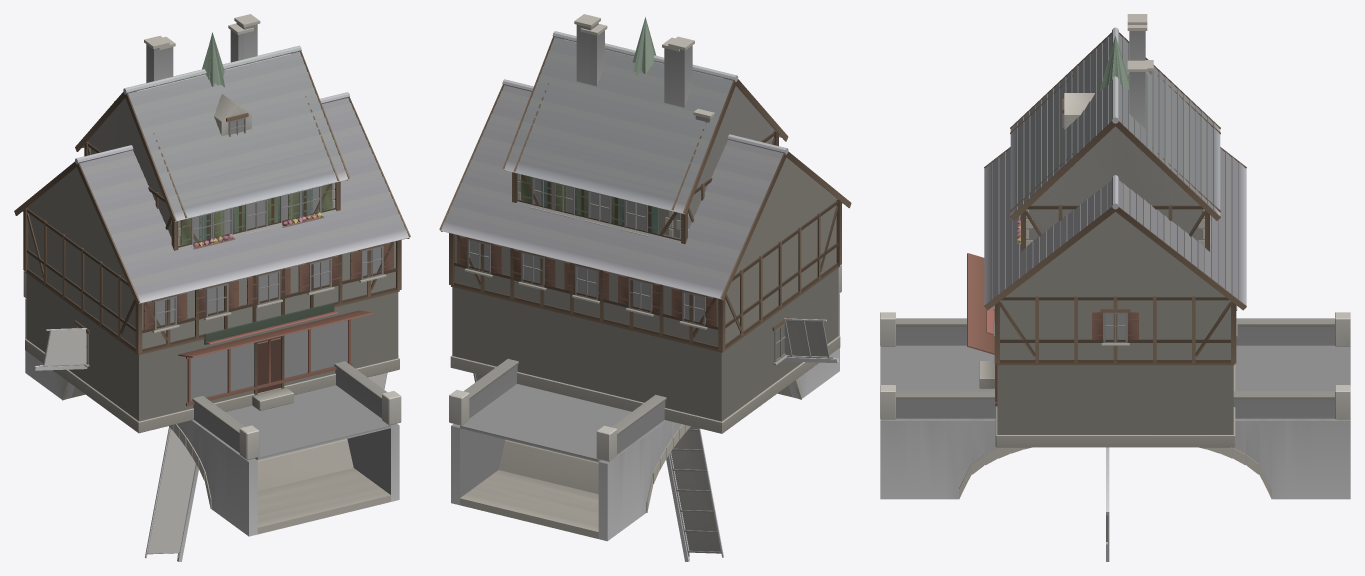
Rendered from skirmish_env.glb.
3 renders of one model, left to right at view 1: azimuth 30°, elevation 25°; view 2: azimuth 150°, elevation 25°; view 3: azimuth 270°, elevation 25°, orthographic. The views are drawn at different scales.
Parts seen in each view (by area): view 1: f_tavern_LOD0, p_bridge_LOD0, f_house_tall_v1_LOD0, f_house_tall_v0_LOD0, p_windmill_sails_LOD0, f_townhouse_v1_LOD0, f_townhouse_v0_LOD0, t_spruce_v1_LOD0; view 2: f_tavern_LOD0, p_bridge_LOD0, f_house_tall_v1_LOD0, f_house_tall_v0_LOD0, p_windmill_sails_LOD0, f_townhouse_v0_LOD0, f_townhouse_v1_LOD0, t_spruce_v0_LOD0; view 3: f_tavern_LOD0, p_bridge_LOD0, f_house_tall_v1_LOD0, f_house_tall_v0_LOD0, f_townhouse_v1_LOD0, f_townhouse_v0_LOD0.
Part boxes in pixels (<box>): f_tavern_LOD0: <box>14,92,410,433</box>; p_bridge_LOD0: <box>23,270,401,536</box>; f_house_tall_v1_LOD0: <box>75,35,349,248</box>; f_house_tall_v0_LOD0: <box>75,14,349,250</box>; p_windmill_sails_LOD0: <box>33,328,398,561</box>; f_townhouse_v1_LOD0: <box>175,23,338,241</box>; f_townhouse_v0_LOD0: <box>137,36,339,243</box>; t_spruce_v1_LOD0: <box>205,32,224,87</box>; f_tavern_LOD0: <box>439,79,851,433</box>; p_bridge_LOD0: <box>449,265,841,541</box>; f_house_tall_v1_LOD0: <box>503,31,787,239</box>; f_house_tall_v0_LOD0: <box>502,14,788,243</box>; p_windmill_sails_LOD0: <box>473,318,838,561</box>; f_townhouse_v0_LOD0: <box>514,37,723,237</box>; f_townhouse_v1_LOD0: <box>514,24,684,210</box>; t_spruce_v0_LOD0: <box>633,21,653,73</box>; f_tavern_LOD0: <box>967,60,1246,447</box>; p_bridge_LOD0: <box>880,312,1350,499</box>; f_house_tall_v1_LOD0: <box>1010,14,1220,246</box>; f_house_tall_v0_LOD0: <box>1010,33,1220,251</box>; f_townhouse_v1_LOD0: <box>1010,72,1220,211</box>; f_townhouse_v0_LOD0: <box>1010,25,1220,233</box>.
Bounding box in the file's own units: 16.89 × 23 × 18.
